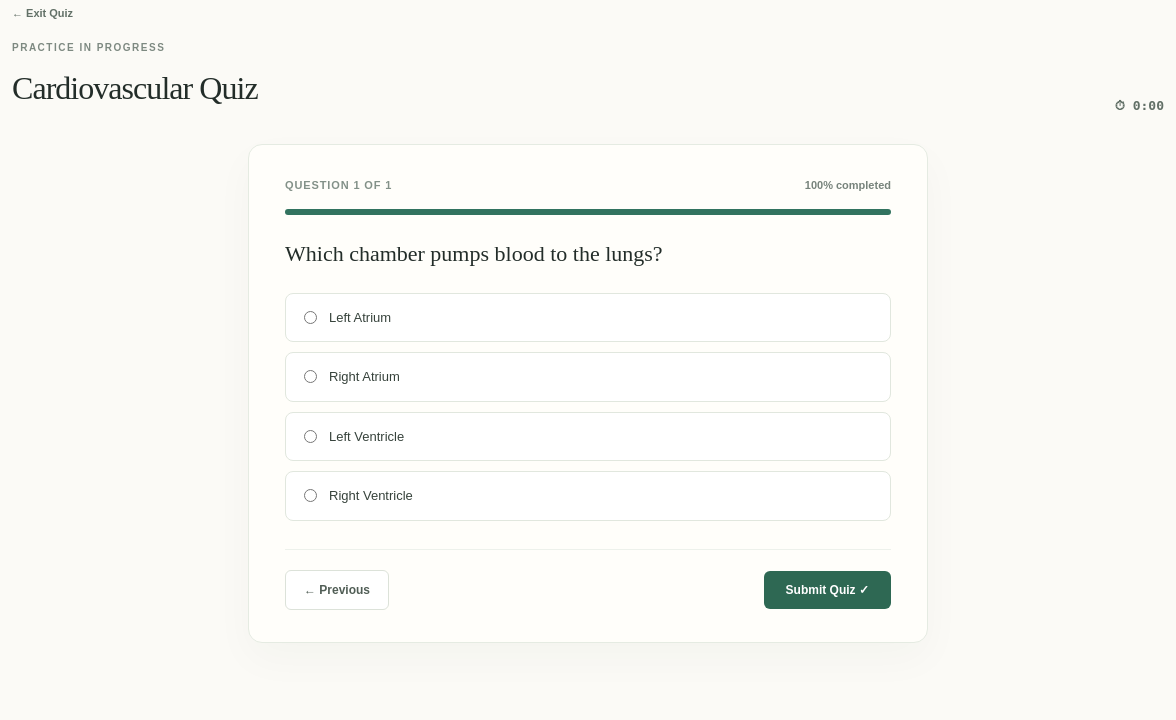
Test: QuizAttemptPage › renders questions and allows submitting answers
Expected: the heading "Which chamber pumps blood to the lungs?" is shown, [285,241,663,266]
Expected: the text "Question 1 of 1" is shown, [285,176,392,193]
Select an option
Click the radio button labelled "Right Ventricle" at (310, 496), box [304,489,317,502]
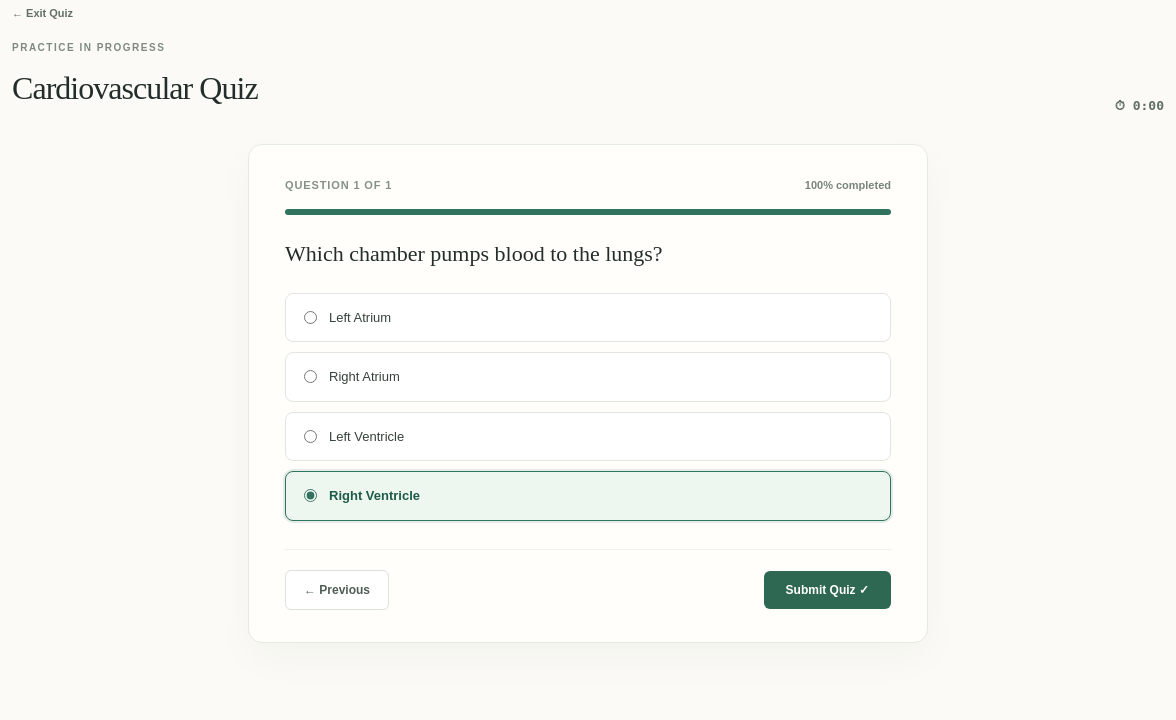
Click submit
Click the button "Submit Quiz ✓" at (827, 590), box [764,571,891,609]
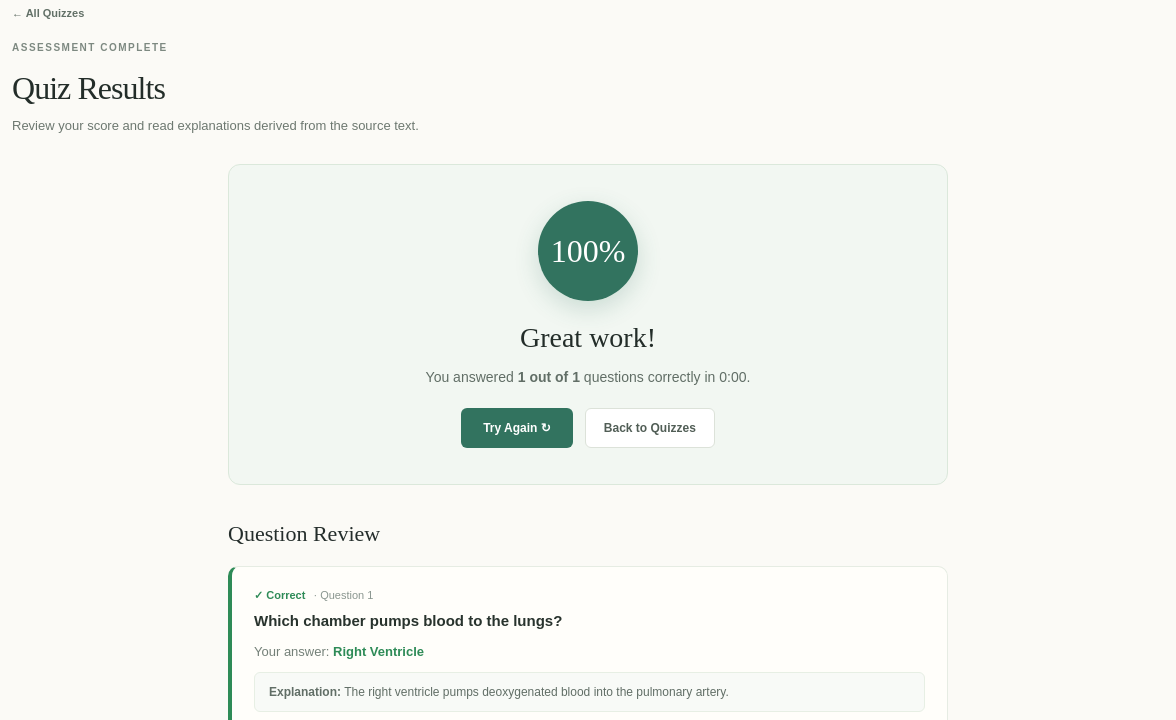
Expected: the text "100%" is shown, [538,201,638,301]
Result: the heading "Quiz Results" is shown at [12,70,165,106]
Result: the text "1 out of 1" is shown at [518,369,580,385]
